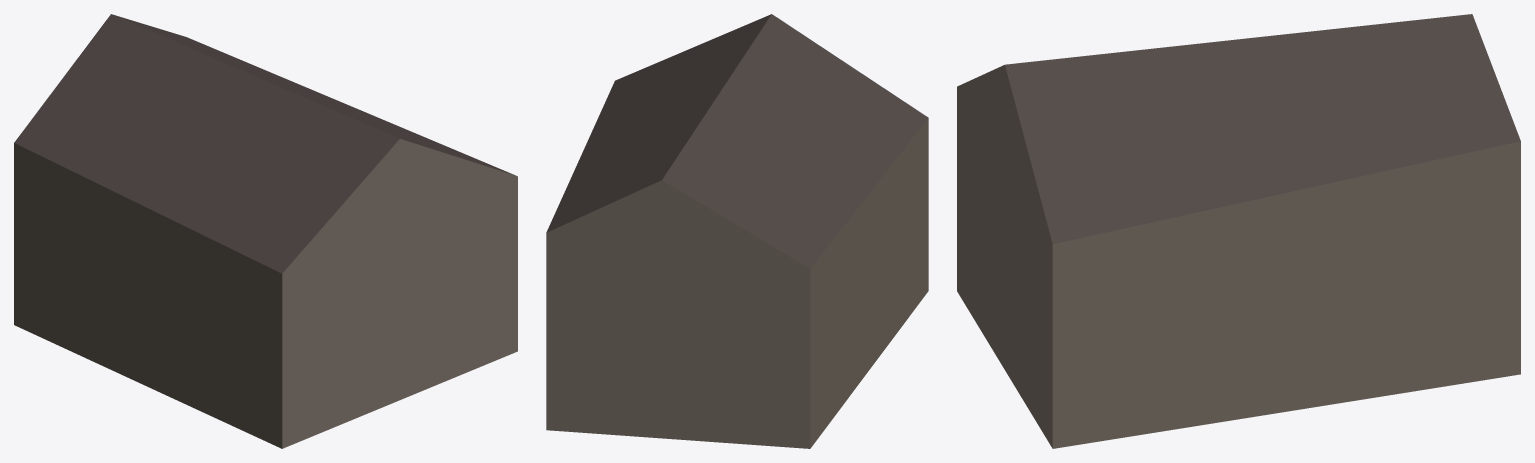
The picture shows the model from 3 angles, left to right: view 1: azimuth 30°, elevation 25°; view 2: azimuth 150°, elevation 25°; view 3: azimuth 270°, elevation 25°; orthographic projection. The views are drawn at different scales.
Visible parts, largest first — view 1: HP-w414733145; view 2: HP-w414733145; view 3: HP-w414733145.
Part boxes in pixels (<box>): HP-w414733145: <box>14,14,517,448</box>; HP-w414733145: <box>546,14,928,448</box>; HP-w414733145: <box>957,14,1520,448</box>.
Size of the model in its own units: 18.86 by 13.43 by 22.47.
